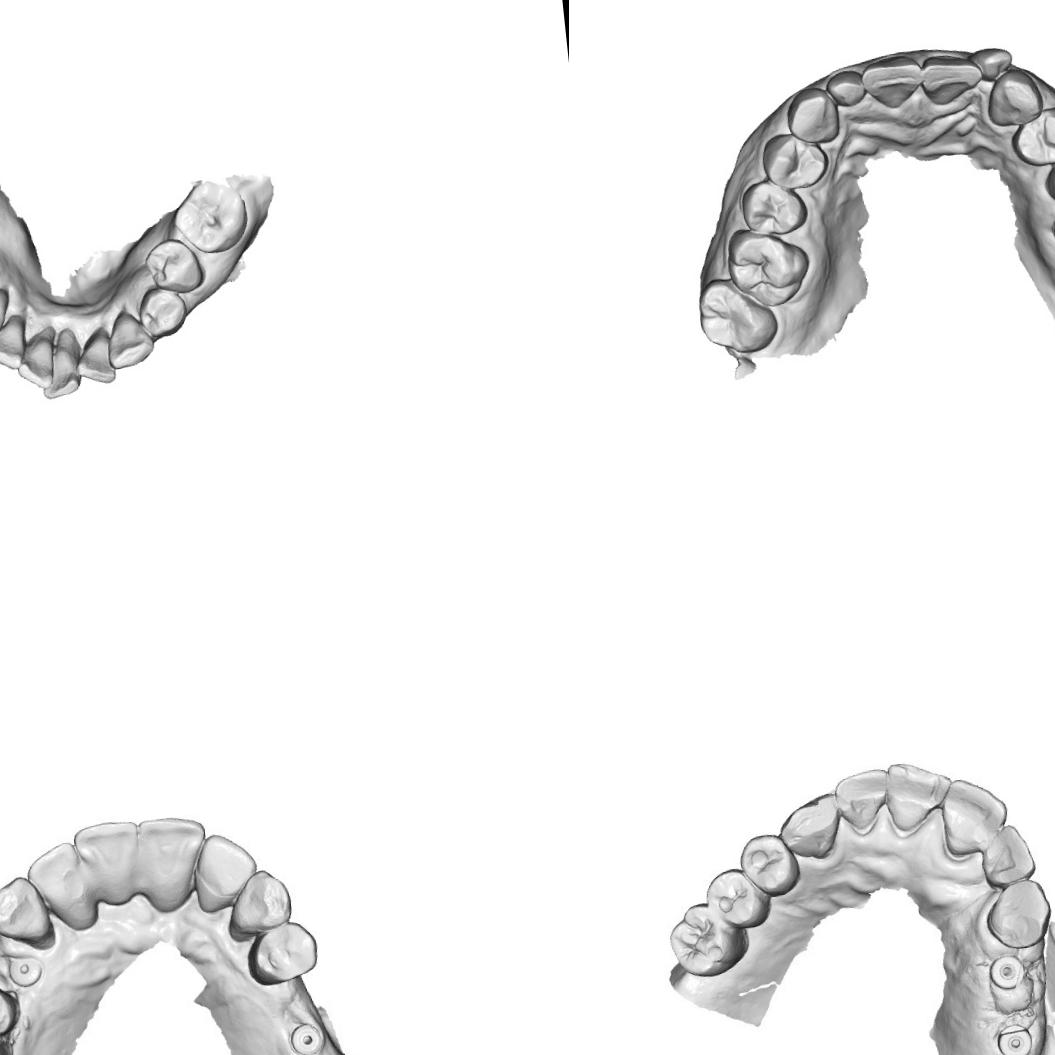canine: (979, 875, 1055, 951), (220, 866, 298, 939), (776, 792, 844, 862), (0, 874, 56, 948), (982, 66, 1044, 130), (782, 84, 842, 148), (134, 282, 191, 341), (0, 287, 14, 347)
implant: (986, 952, 1026, 996), (7, 950, 48, 987), (994, 1019, 1034, 1055), (290, 1018, 326, 1054)
incisor: (74, 817, 150, 915), (134, 813, 210, 904), (29, 842, 102, 928), (882, 753, 958, 834), (186, 830, 260, 912), (938, 771, 1014, 850), (973, 819, 1037, 890), (832, 765, 893, 834), (860, 50, 925, 114), (920, 49, 986, 108), (100, 305, 156, 373), (72, 326, 118, 388), (13, 331, 60, 391), (36, 344, 84, 402), (0, 311, 34, 375), (822, 68, 870, 112), (972, 40, 1018, 82)
molar: (722, 220, 816, 314), (694, 271, 782, 359), (661, 898, 751, 983), (166, 174, 252, 260)
premolar: (242, 919, 322, 994), (732, 828, 803, 903), (756, 128, 834, 192), (738, 174, 812, 241), (699, 864, 769, 930), (142, 234, 207, 298), (1007, 102, 1055, 170), (0, 977, 19, 1039)
